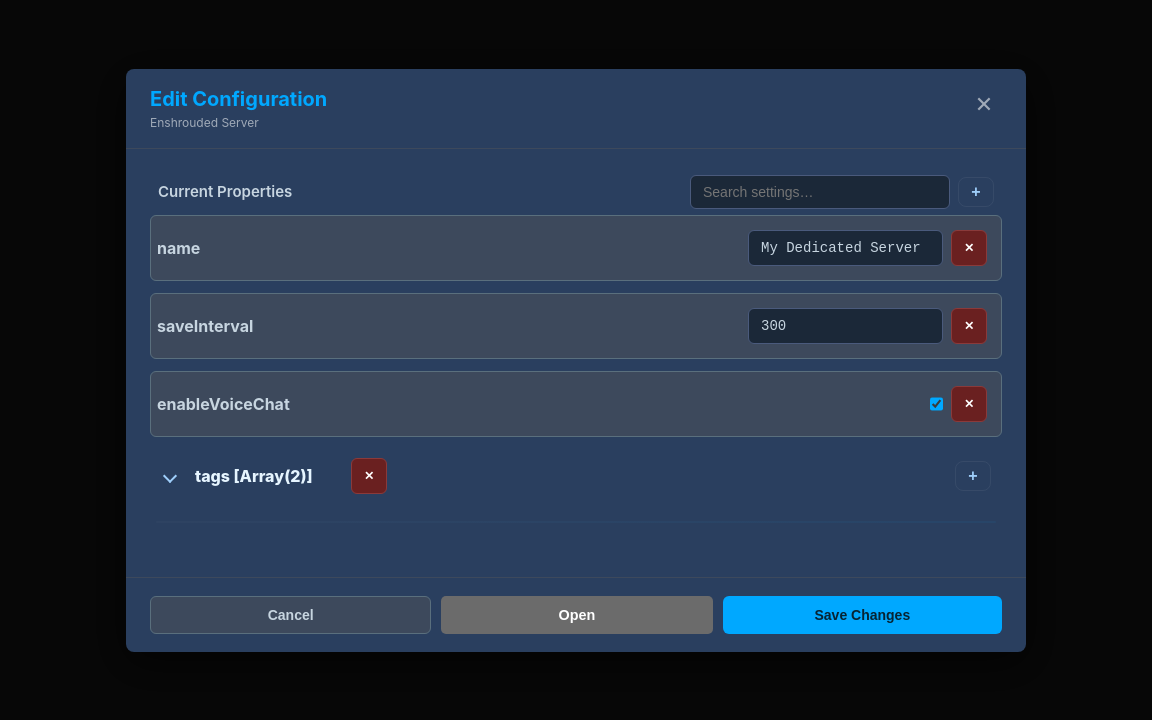
Test case: ConfigEditor › clears search and restores the full property tree
expect the text "name" is shown: met, box [157, 238, 200, 258]
Step 1. Type "saveInterval" into the search field labelled "Search settings" → (820, 192), box [690, 174, 950, 208]
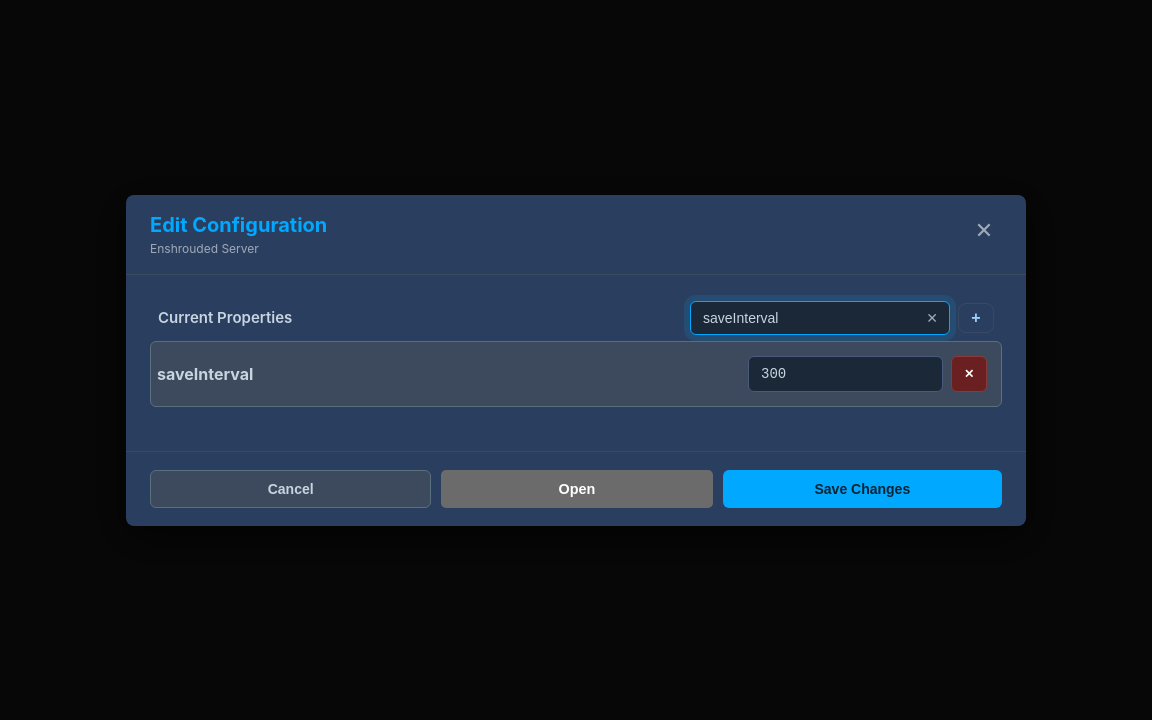
expect the text "saveInterval" is shown: met, box [157, 364, 253, 384]
expect the text "name" is gone: met
Step 2. Click the button named "Clear search" → (932, 318), box [918, 304, 946, 332]
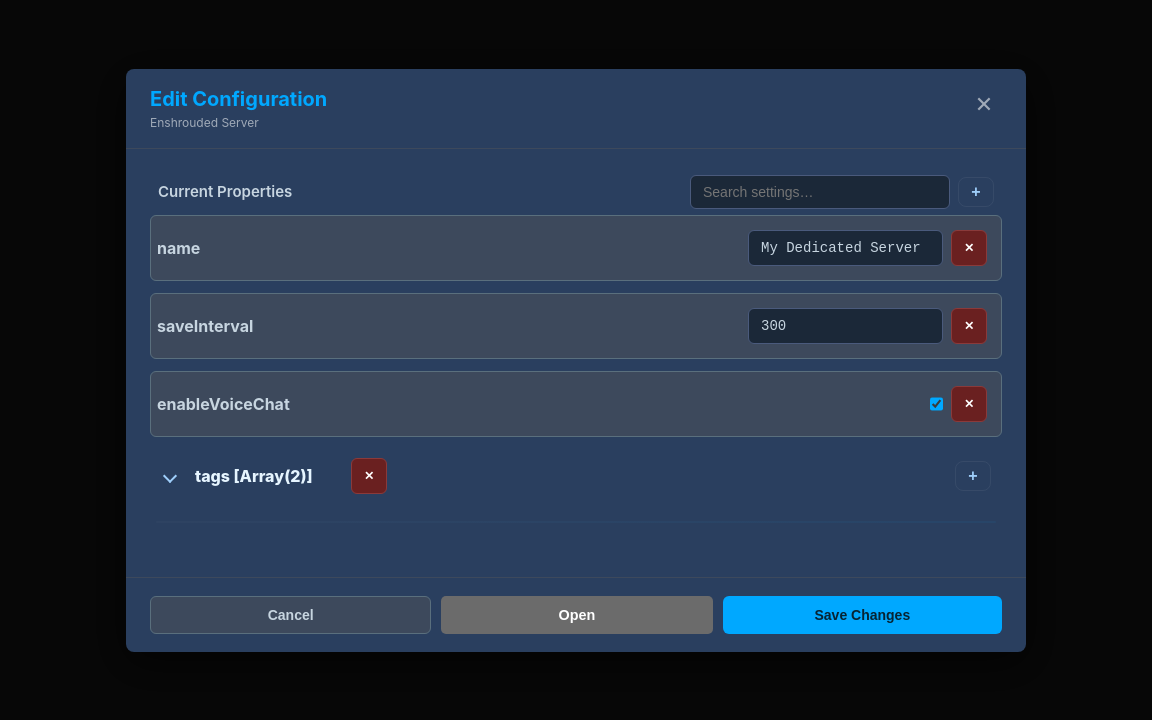
expect the text "saveInterval" is shown: met, box [157, 316, 253, 336]
expect the text "name" is shown: met, box [157, 238, 200, 258]
expect the search field labelled "Search settings" is empty: met, box [690, 174, 950, 208]
